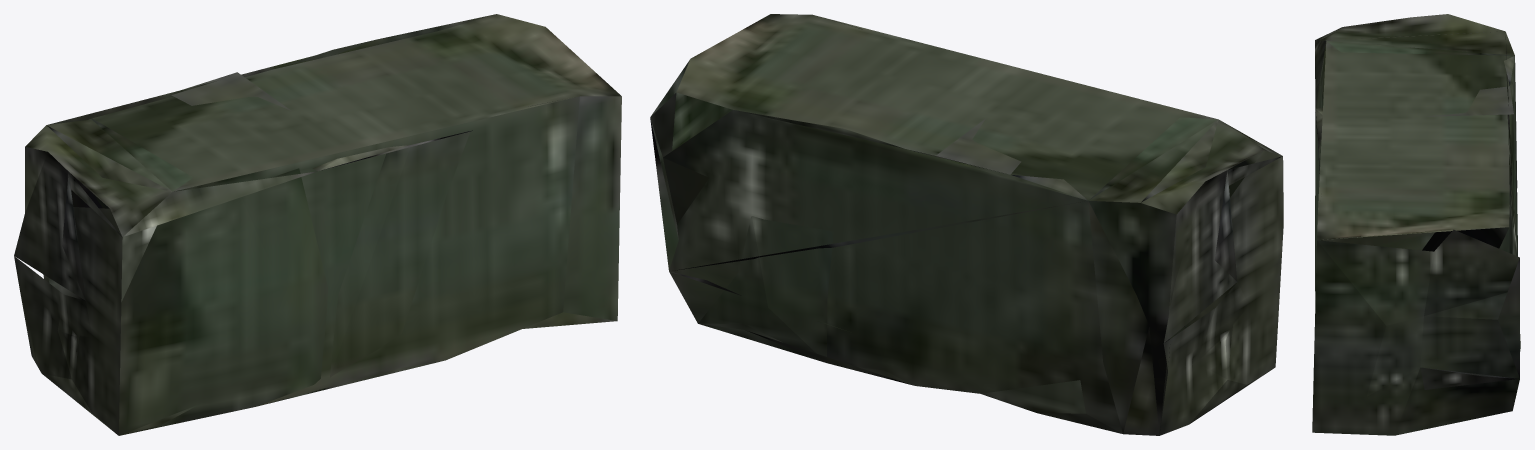
File: container_273409974_lod1.glb
3 views of the same model, side by side, from view 1: azimuth 30°, elevation 25°; view 2: azimuth 150°, elevation 25°; view 3: azimuth 270°, elevation 25° (orthographic). The views are drawn at different scales.
Size of the model in its own units: 5.91 by 2.72 by 2.39.
Materials: 1 (1 with a texture image).
